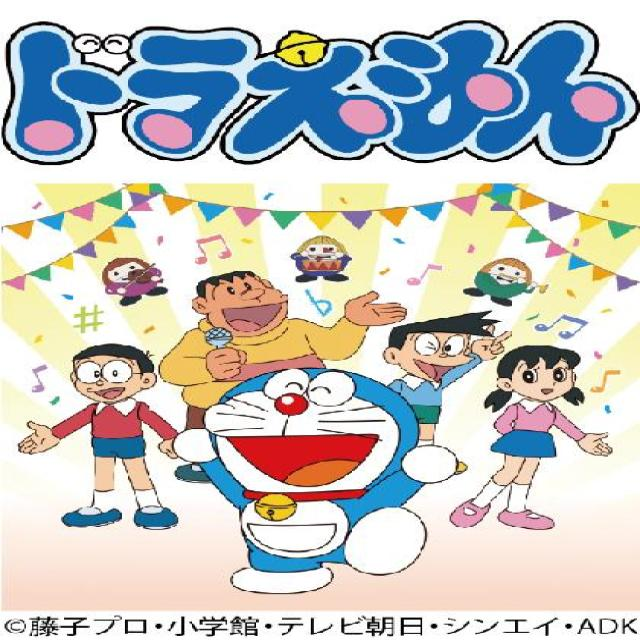doraemon: (182, 364, 452, 543)
jaian: (188, 264, 300, 358)
nobita: (47, 341, 166, 416)
shizuka: (478, 335, 598, 424)
suneo: (384, 296, 514, 398)
